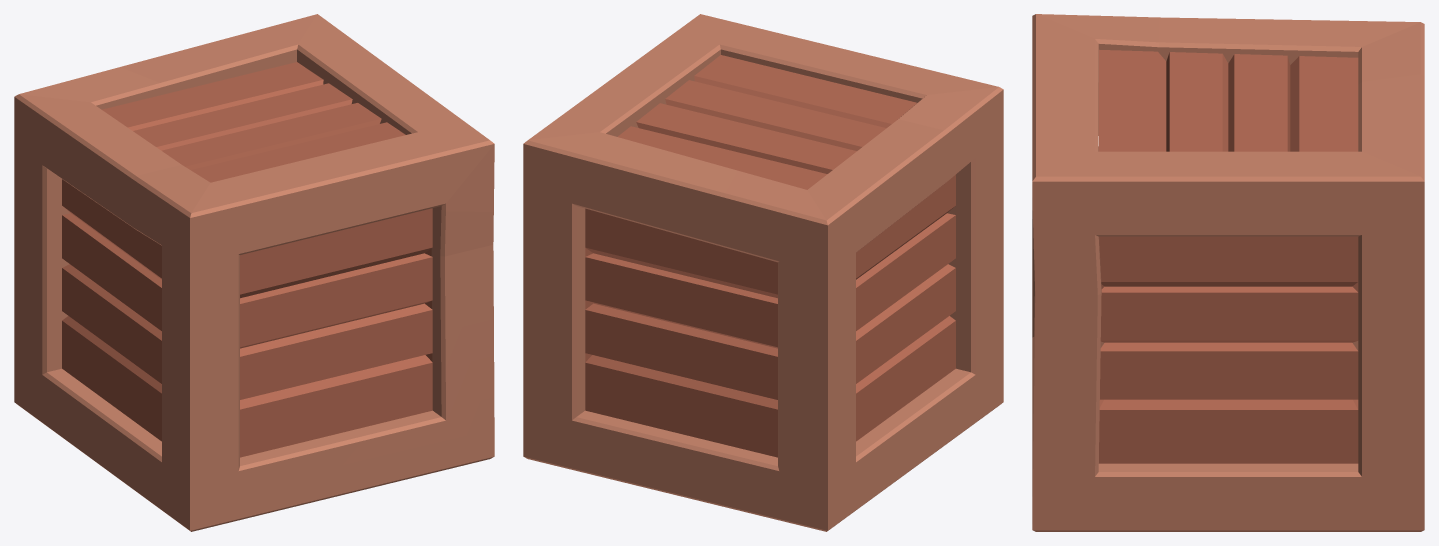
File: partBox.fbx
The picture shows the model from 3 angles, left to right: view 1: azimuth 30°, elevation 25°; view 2: azimuth 150°, elevation 25°; view 3: azimuth 270°, elevation 25°; orthographic projection. The views are drawn at different scales.
Parts seen in each view (by area): view 1: Cube.002, Cube.004, Cube.005, Cube.003, Cube.001; view 2: Cube.002, Cube.005, Cube.001, Cube.006, Cube.003, Cube.004; view 3: Cube.001, Cube.006, Cube.002, Cube.003, Cube.004.
Boxes of the visible parts, x1,y1,x2,y2 form: Cube.002: (14,67,386,518); Cube.004: (149,206,494,531); Cube.005: (14,206,161,502); Cube.003: (304,32,494,211); Cube.001: (120,14,432,361); Cube.002: (725,39,1003,390); Cube.005: (600,245,963,531); Cube.001: (523,93,786,313); Cube.006: (523,313,714,476); Cube.003: (553,14,803,122); Cube.004: (945,315,1003,432); Cube.001: (1119,74,1424,484); Cube.006: (1127,371,1424,531); Cube.002: (1032,14,1424,294); Cube.003: (1032,112,1365,257); Cube.004: (1032,236,1128,531).
Size of the model in its own units: 137 by 137 by 137.
